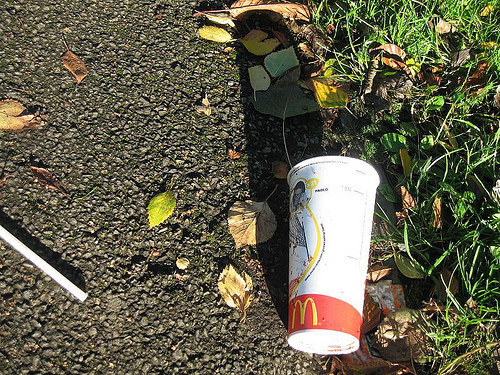litter: (285, 152, 380, 355), (0, 223, 88, 303)
